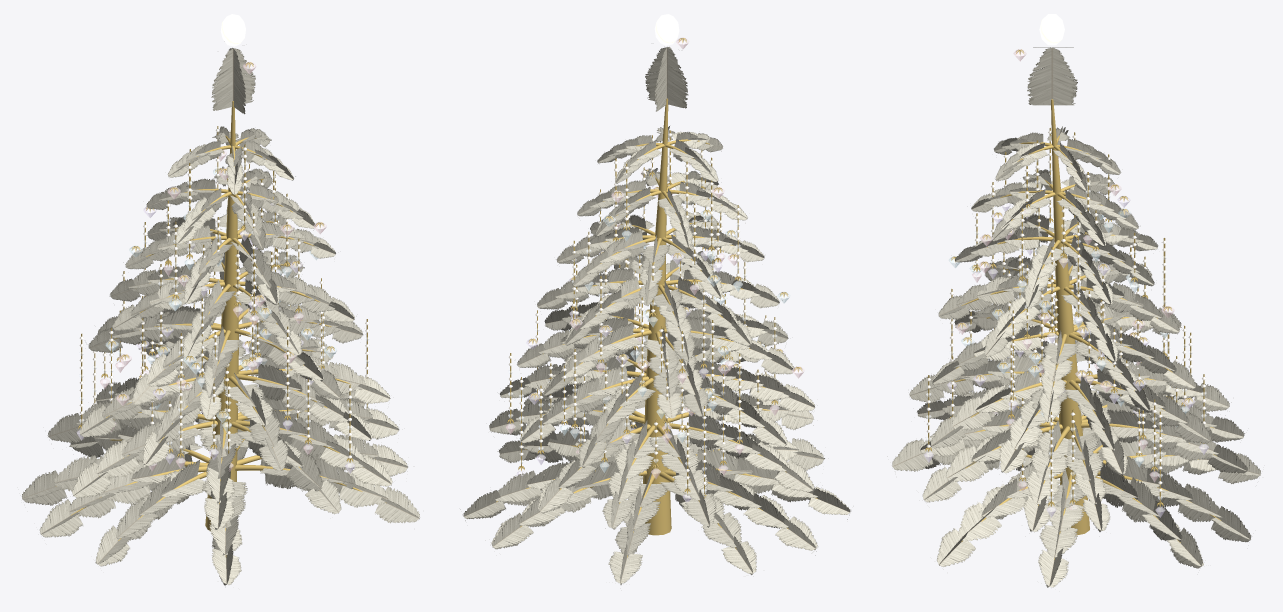
The model's file is houju_conifer.glb.
The picture shows the model from 3 angles, left to right: view 1: azimuth 30°, elevation 25°; view 2: azimuth 150°, elevation 25°; view 3: azimuth 270°, elevation 25°; orthographic projection. The views are drawn at different scales.
Visible parts, largest first — view 1: foliage, conifer, gold_wire, pearl_batch, sakura_batch, mizu_batch, hari_batch, gold_fitting, fuji_batch, hoju; view 2: foliage, conifer, gold_wire, pearl_batch, mizu_batch, sakura_batch, hari_batch, gold_fitting, fuji_batch, hoju; view 3: foliage, conifer, gold_wire, pearl_batch, fuji_batch, sakura_batch, mizu_batch, hari_batch, gold_fitting, hoju.
Boxes of the visible parts, x1,y1,x2,y2 form: foliage: (22,48,419,585); conifer: (56,101,386,557); gold_wire: (81,126,367,461); pearl_batch: (79,129,369,458); sakura_batch: (100,61,326,471); mizu_batch: (105,167,336,431); hari_batch: (79,162,369,451); gold_fitting: (78,62,353,462); fuji_batch: (77,203,354,473); hoju: (220,14,245,46); foliage: (460,47,850,584); conifer: (496,98,817,557); gold_wire: (510,130,775,495); pearl_batch: (508,133,776,484); mizu_batch: (559,209,790,472); sakura_batch: (506,37,804,478); hari_batch: (508,148,777,492); gold_fitting: (507,38,802,498); fuji_batch: (516,185,785,502); hoju: (654,14,679,45); foliage: (887,47,1260,587); conifer: (954,99,1221,559); gold_wire: (928,128,1204,505); pearl_batch: (926,130,1205,491); fuji_batch: (924,195,1208,517); sakura_batch: (955,49,1174,509); mizu_batch: (948,185,1189,467); hari_batch: (926,149,1206,500); gold_fitting: (925,49,1204,506); hoju: (1039,14,1064,45).
Bounding box in the file's own units: 6.41 × 8.87 × 5.99.
Materials: 9 (1 with a texture image).
